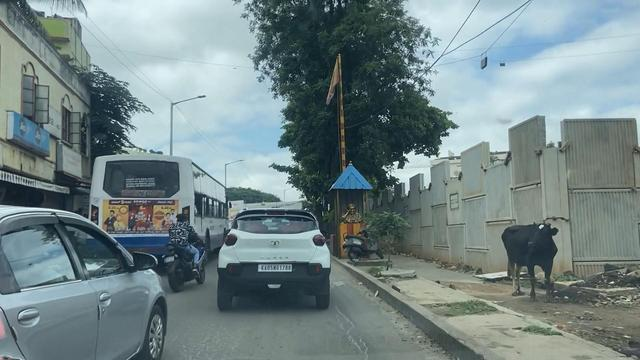HMV: (91, 150, 213, 228)
LMV: (231, 203, 337, 314), (171, 213, 201, 295)
